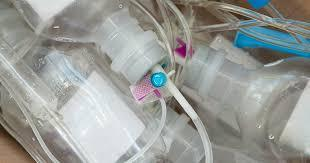Iv_Bottle: (182, 45, 309, 161), (12, 0, 165, 83)
